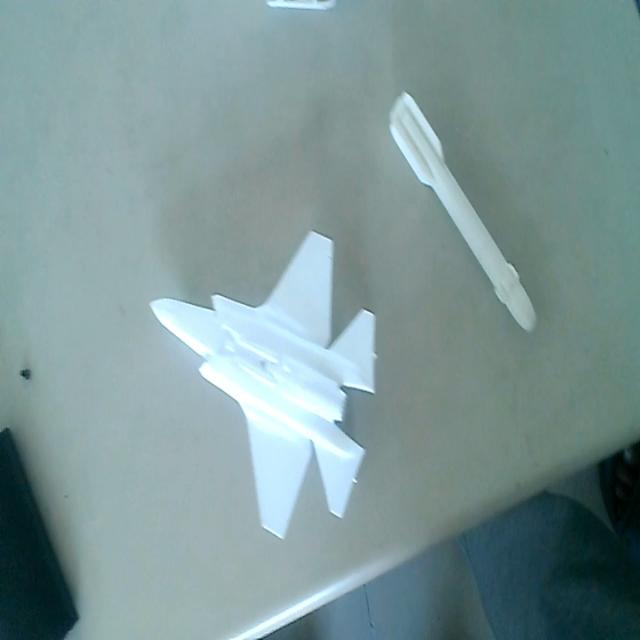Jet: (145, 228, 382, 544)
Rocket: (386, 88, 540, 333)
